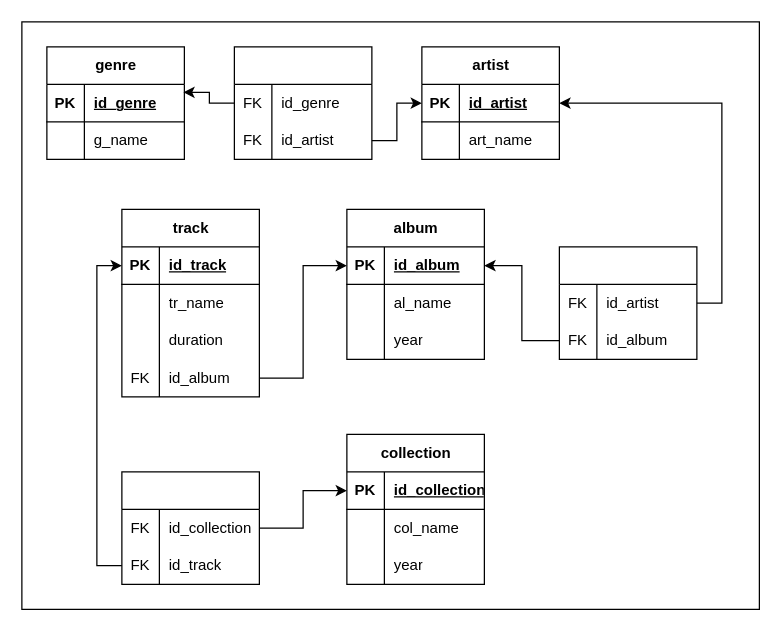
This 781x631 diagram has some shape labels left out. Each missing label, with the box of its shape:
album_artist: (558, 246, 697, 359)
artist_genre: (233, 46, 372, 159)
collection_track: (121, 471, 259, 584)
